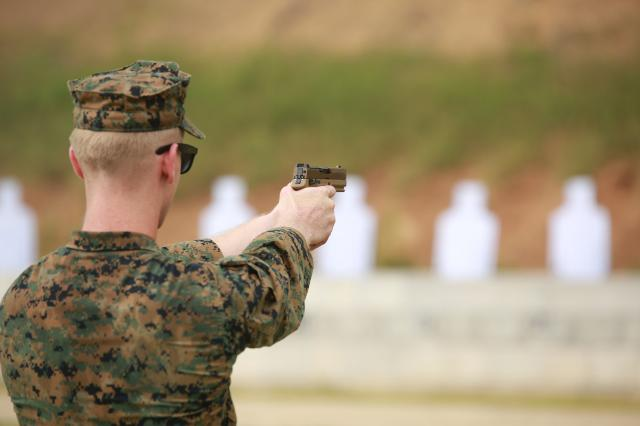handgun: (285, 160, 351, 214)
